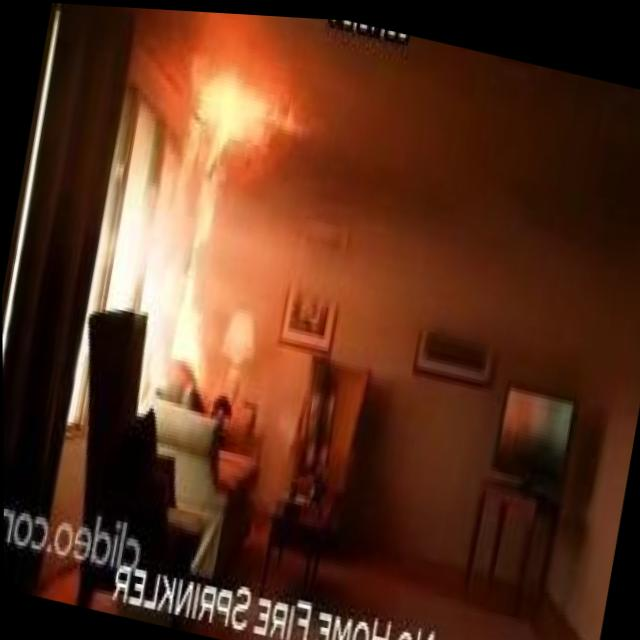fire: (180, 48, 308, 190), (167, 171, 237, 368)
